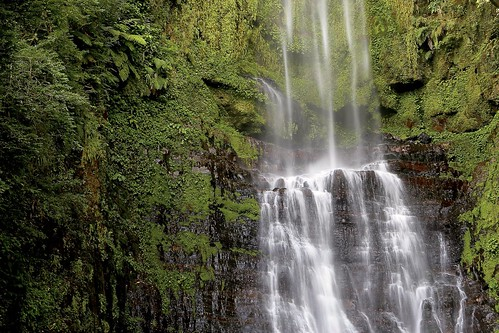wufengciWaterfall: (257, 24, 443, 331)
